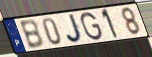0: (42, 17, 64, 46)
1: (101, 7, 120, 40)
8: (120, 6, 142, 36)
B: (18, 19, 45, 51)
G: (80, 11, 104, 42)
J: (65, 13, 84, 44)
